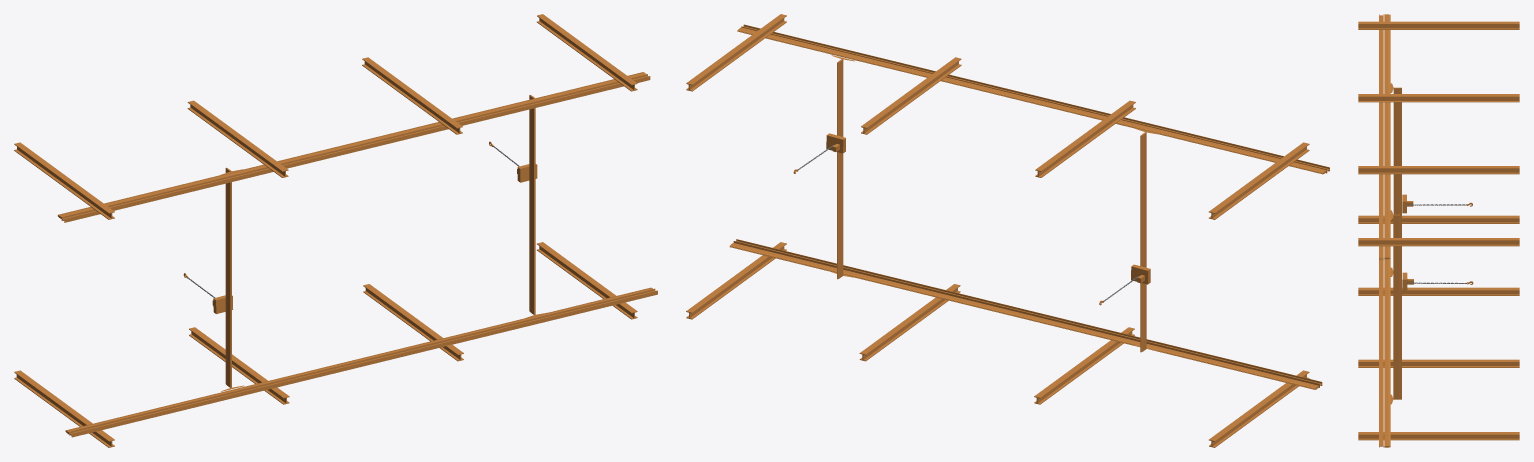
File: unloadingMachine.dae
The picture shows the model from 3 angles, left to right: view 1: azimuth 30°, elevation 25°; view 2: azimuth 150°, elevation 25°; view 3: azimuth 270°, elevation 25°; orthographic projection. The views are drawn at different scales.
Visible parts, largest first — view 1: SketchUp (×14); view 2: SketchUp (×14); view 3: SketchUp (×14).
Boxes of the visible parts, x1,y1,x2,y2 form: SketchUp (×14): (14,14,657,447); SketchUp (×14): (686,14,1329,447); SketchUp (×14): (1358,14,1519,447).
Size of the model in its own units: 2420 by 919 by 668.
